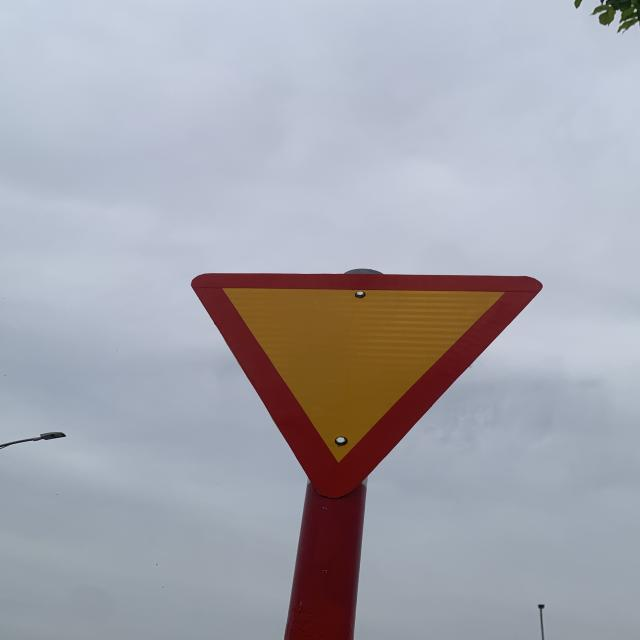Gioi_Han_Toc_Do_25: (194, 273, 540, 497)
